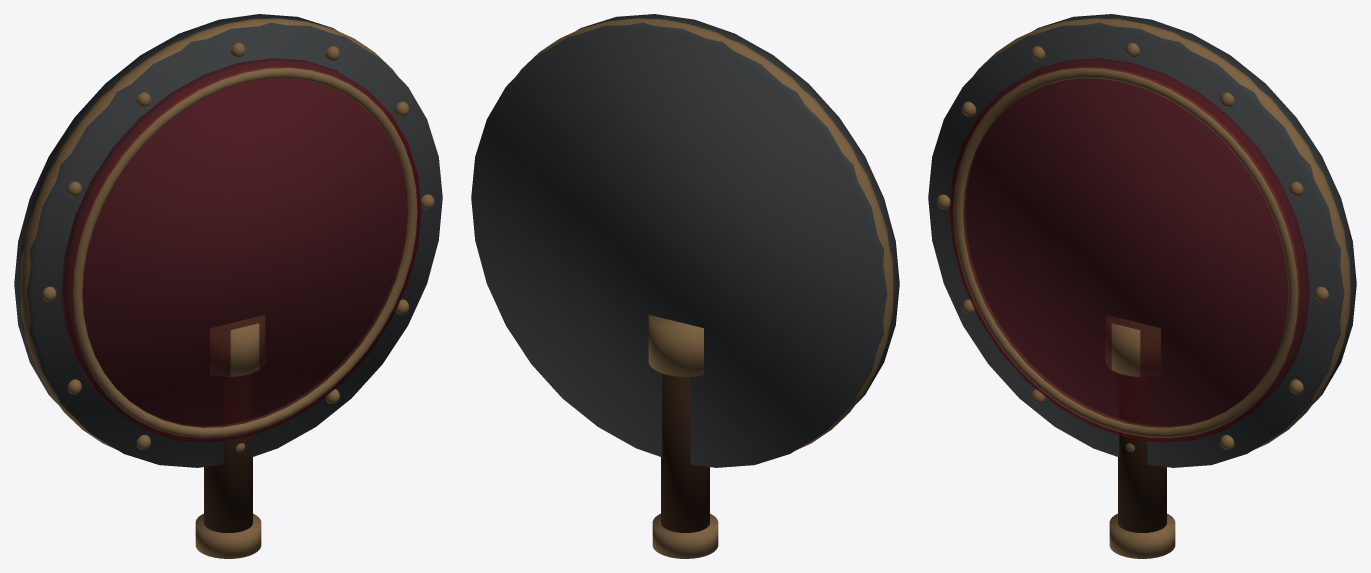
The model's file is item_aegis.glb.
3 renders of one model, left to right at view 1: azimuth 30°, elevation 25°; view 2: azimuth 150°, elevation 25°; view 3: azimuth 330°, elevation 25°, orthographic.
Parts seen in each view (by area): view 1: Aegis_Back, Aegis_RedMirror, Aegis_InnerTrim, Aegis_Handle, Aegis_BrassRim, Aegis_HandleNeck, Aegis_Pommel; view 2: Aegis_Back, Aegis_Handle, Aegis_BrassRim, Aegis_HandleNeck, Aegis_Pommel; view 3: Aegis_Back, Aegis_RedMirror, Aegis_InnerTrim, Aegis_Handle, Aegis_BrassRim, Aegis_HandleNeck, Aegis_Pommel.
Boxes of the visible parts, x1=… form: Aegis_Back: x1=14, y1=14, x2=442, y2=467; Aegis_RedMirror: x1=61, y1=58, x2=421, y2=442; Aegis_InnerTrim: x1=70, y1=66, x2=417, y2=438; Aegis_Handle: x1=204, y1=374, x2=252, y2=532; Aegis_BrassRim: x1=20, y1=18, x2=397, y2=449; Aegis_HandleNeck: x1=210, y1=315, x2=264, y2=376; Aegis_Pommel: x1=195, y1=513, x2=261, y2=558; Aegis_Back: x1=471, y1=14, x2=899, y2=467; Aegis_Handle: x1=661, y1=373, x2=709, y2=532; Aegis_BrassRim: x1=516, y1=18, x2=893, y2=449; Aegis_HandleNeck: x1=648, y1=315, x2=703, y2=376; Aegis_Pommel: x1=652, y1=513, x2=718, y2=558; Aegis_Back: x1=928, y1=14, x2=1356, y2=467; Aegis_RedMirror: x1=949, y1=58, x2=1309, y2=442; Aegis_InnerTrim: x1=953, y1=66, x2=1300, y2=438; Aegis_Handle: x1=1118, y1=374, x2=1166, y2=532; Aegis_BrassRim: x1=973, y1=18, x2=1350, y2=449; Aegis_HandleNeck: x1=1106, y1=315, x2=1160, y2=376; Aegis_Pommel: x1=1109, y1=513, x2=1175, y2=558.
Size of the model in its own units: 0.232 by 0.279 by 0.036.
